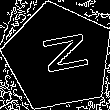N_W: (29, 33, 88, 82)
